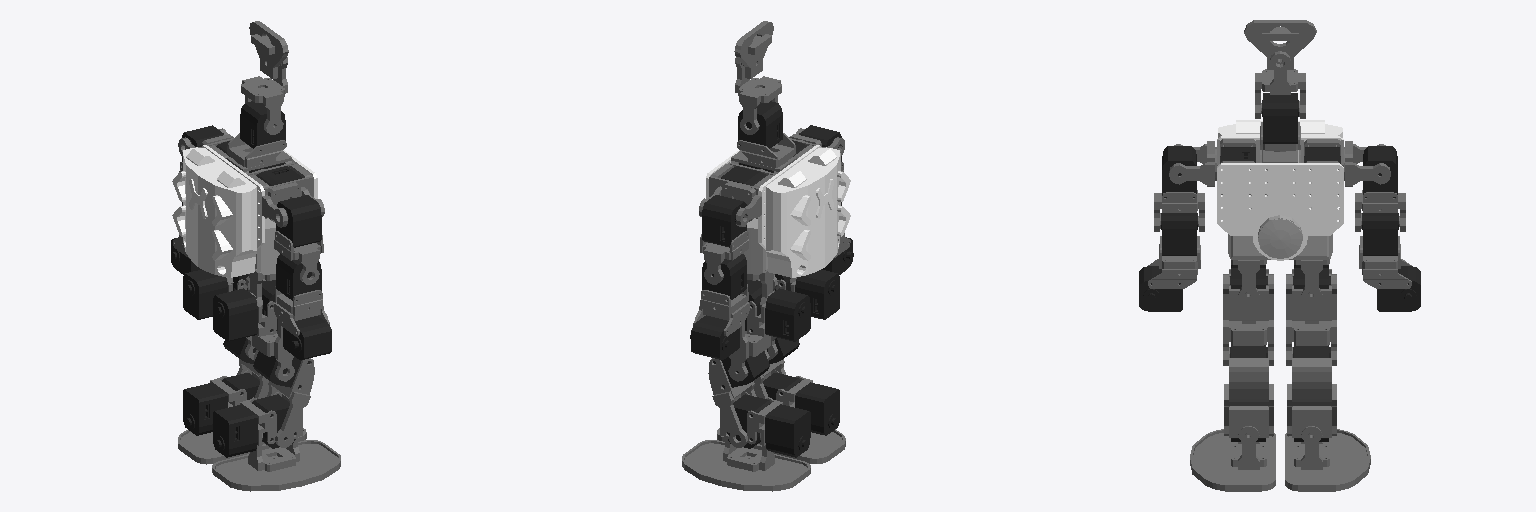
--- Render facts (derived) ---
The picture shows the robot from 3 angles, left to right: view 1: azimuth 30°, elevation 25°; view 2: azimuth 150°, elevation 25°; view 3: azimuth 270°, elevation 25°; orthographic projection.
Model kxrl2l5a3g with 23 links and 22 joints (16 revolute, 6 fixed), rooted at torso, posed every joint at zero.
Visible links, largest first — view 1: torso, RLEG_LINK4, RARM_LINK2, RLEG_LINK3, HEAD_LINK1, RARM_LINK1, RLEG_LINK0, LLEG_LINK3, HEAD_LINK0, RLEG_LINK2, LLEG_LINK0, LLEG_LINK4 (+4 smaller); view 2: torso, LLEG_LINK4, LARM_LINK2, LLEG_LINK3, HEAD_LINK1, LARM_LINK1, LLEG_LINK0, RLEG_LINK3, HEAD_LINK0, LLEG_LINK2, RLEG_LINK0, RLEG_LINK4 (+4 smaller); view 3: torso, RLEG_LINK4, LLEG_LINK4, RARM_LINK2, LARM_LINK2, HEAD_LINK1, RLEG_LINK2, LLEG_LINK2, LARM_LINK1, RARM_LINK1, HEAD_LINK0, LLEG_LINK1 (+7 smaller).
Boxes of the visible links, x1,y1,x2,y2 form: torso: (172,138,317,308); RLEG_LINK4: (212,433,340,491); RARM_LINK2: (274,253,331,359); RLEG_LINK3: (213,392,302,457); HEAD_LINK1: (241,21,288,134); RARM_LINK1: (274,195,323,284); RLEG_LINK0: (213,280,277,341); LLEG_LINK3: (183,370,259,435); HEAD_LINK0: (227,101,286,167); RLEG_LINK2: (253,351,314,447); LLEG_LINK0: (183,270,248,319); LLEG_LINK4: (178,428,306,464); torso: (706,138,850,307); LLEG_LINK4: (682,433,810,491); LARM_LINK2: (690,254,749,359); LLEG_LINK3: (720,392,810,457); HEAD_LINK1: (734,21,781,134); LARM_LINK1: (700,195,748,284); LLEG_LINK0: (745,280,810,341); RLEG_LINK3: (763,370,839,435); HEAD_LINK0: (737,101,795,167); LLEG_LINK2: (708,351,769,447); RLEG_LINK0: (775,269,839,319); RLEG_LINK4: (717,428,845,463); torso: (1215,120,1344,304); RLEG_LINK4: (1190,426,1275,491); LLEG_LINK4: (1285,426,1370,491); RARM_LINK2: (1139,213,1200,311); LARM_LINK2: (1359,213,1420,311); HEAD_LINK1: (1244,20,1316,118); RLEG_LINK2: (1224,345,1273,435); LLEG_LINK2: (1287,345,1336,435); LARM_LINK1: (1355,146,1405,231); RARM_LINK1: (1154,146,1204,231); HEAD_LINK0: (1260,93,1300,150); LLEG_LINK1: (1286,274,1336,365).
Bounding box of the posed robot: 0.1065 × 0.2095 × 0.367 m (x, y, z).
19 mesh visuals loaded from 19 distinct referenced files (19 Collada DAE).

URDF robot description (kxrl2l5a3g):
<?xml version="1.0"?>
<robot name="kxrl2l5a3g"
       xmlns:xi="http://www.w3.org/2001/XInclude">
  <link name="torso">
    <visual>
      <origin xyz="-8e-06 0 0.191982" rpy="0 -0 0"/>
      <geometry>
        <mesh filename="../meshes/torso_mesh.dae" scale="1 1 1" />
      </geometry>
    </visual>
    <collision>
      <origin xyz="-0.010000 0.00000 0.020000" rpy="0.00000000 -0.00000000 0.00000000"/>
      <geometry>
        <box size="0.07000 0.08 0.08" />
      </geometry>
    </collision>
    <inertial>
      <!-- from rcb4eus -->
      <!-- <mass value="0.583234" /> -->
      <!-- real robot w/o battery: 0.583234 - 0.296 = 0.287234; only compensate the real weight by torso adjustment -->
      <mass value="0.287234" />
      <origin xyz="0 0 0" rpy="0 -0 0"/>
      <inertia ixx="0.001179" ixy="-8.41182e-06" ixz="-1.70062e-06" iyy="0.001167" iyz="1.49116e-06" izz="0.001999"/>
    </inertial>
  </link>
  <link name="HEAD_LINK0">
    <visual>
      <origin xyz="-0.00725 0 0.061" rpy="0 -0 0"/>
      <geometry>
        <mesh filename="../meshes/HEAD_LINK0_mesh.dae" scale="1 1 1" />
      </geometry>
    </visual>
    <inertial>
      <mass value="0.03752" />
      <origin xyz="0.008278 -1.86739e-06 0.020216" rpy="0 -0 0"/>
      <inertia ixx="3.88837e-05" ixy="-3.94e-12" ixz="6.70242e-09" iyy="4.27546e-05" iyz="-6.02408e-09" izz="2.51931e-05"/>
    </inertial>
  </link>
  <link name="HEAD_LINK1">
    <visual>
      <origin xyz="0.0105 0 0.033" rpy="0 -0 0"/>
      <geometry>
        <mesh filename="../meshes/HEAD_LINK1_mesh.dae" scale="1 1 1" />
      </geometry>
    </visual>
    <collision>
      <origin xyz="0.00000 0.0000 -0.0080" rpy="0.00000000 -0.00000000 0.00000000"/>
      <geometry>
        <box size="0.025 0.025 0.03" />
      </geometry>
    </collision>
    <inertial>
      <mass value="0.024597" />
      <!-- <origin xyz="0.004067 2.59182e-19 0.008603" rpy="0 -0 0"/> -->
      <origin xyz="0.004067 4.0547e-19 0.008603" rpy="0 -0 0"/>
      <inertia ixx="9.7242e-05" ixy="-2.28993e-09" ixz="1.36484e-07" iyy="8.87817e-05" iyz="-1.71513e-08" izz="1.3887e-05"/>
    </inertial>
  </link>
  <link name="LARM_LINK0">
    <visual>
      <origin xyz="-0.00725 0.0485 0.0435" rpy="0 -0 0"/>
      <geometry>
        <mesh filename="../meshes/LARM_LINK0_mesh.dae" scale="1 1 1" />
      </geometry>
    </visual>
    <inertial>
      <mass value="0.01195" />
      <origin xyz="2.60209e-18 0 0.010386" rpy="0 -0 0"/>
      <inertia ixx="2.28576e-05" ixy="-9.80842e-10" ixz="6.34046e-10" iyy="1.18146e-05" iyz="1.5468e-08" izz="1.61687e-05"/>
    </inertial>
  </link>
  <link name="LARM_LINK1">
    <visual>
      <origin xyz="0 0.026 0" rpy="0 -0 0"/>
      <geometry>
        <mesh filename="../meshes/LARM_LINK1_mesh.dae" scale="1 1 1" />
      </geometry>
    </visual>
    <collision>
      <origin xyz="0.00000 0.0000 -0.0080" rpy="0.00000000 -0.00000000 0.00000000"/>
      <geometry>
        <box size="0.025 0.025 0.03" />
      </geometry>
    </collision>
    <collision>
      <origin xyz="0.0 0.0000 -0.030" rpy="0.00000000 -0.00000000 0.00000000"/>
      <geometry>
        <box size="0.028 0.028 0.006" />
      </geometry>
    </collision>
    <inertial>
      <mass value="0.041025" />
      <origin xyz="0 0 -0.01644" rpy="0 -0 0"/>
      <inertia ixx="5.49194e-05" ixy="-6.71102e-10" ixz="8.95645e-09" iyy="2.53332e-05" iyz="6.90862e-09" izz="5.98969e-05"/>
    </inertial>
  </link>
  <link name="LARM_LINK2">
    <visual>
      <origin xyz="0 0 -0.047" rpy="0 -0 0"/>
      <geometry>
        <mesh filename="../meshes/LARM_LINK2_mesh.dae" scale="1 1 1" />
      </geometry>
    </visual>
    <collision>
      <origin xyz="0.00000 0.0000 -0.008" rpy="0.00000000 -0.00000000 0.00000000"/>
      <geometry>
        <box size="0.025 0.025 0.03" />
      </geometry>
    </collision>
    <collision>
      <origin xyz="0.00000 0.0130 -0.055" rpy="0.00000000 -0.00000000 0.00000000"/>
      <geometry>
        <box size="0.025 0.03 0.025" />
      </geometry>
    </collision>
    <collision>
      <origin xyz="0.0 0.0000 -0.033" rpy="0.00000000 -0.00000000 0.00000000"/>
      <geometry>
        <box size="0.028 0.028 0.010" />
      </geometry>
    </collision>
    <inertial>
      <mass value="0.071724" />
      <origin xyz="0 0 -0.012787" rpy="0 -0 0"/>
      <inertia ixx="9.38809e-05" ixy="-3.94e-12" ixz="1.53141e-08" iyy="5.47619e-05" iyz="-1.12819e-08" izz="9.84962e-05"/>
    </inertial>
  </link>
  <!-- <link name="LARM_LINK3"> -->
  <!--   <visual> -->
  <!--     <origin xyz="0 0.021 -0.0555" rpy="0 -0 0"/> -->
  <!--     <geometry> -->
  <!--       <mesh filename="../meshes/LARM_LINK3_mesh.dae" scale="1 1 1" /> -->
  <!--     </geometry> -->
  <!--   </visual> -->
  <!--   <collision> -->
  <!--     <!-\- <origin xyz="0.00000 0.0225 -0.022" rpy="${-1.0471975512 - 0.05} -0.00000000 0.00000000"/> -\-> -->
  <!--     <origin xyz="0.00000 0.0225 -0.022" rpy="-1.0971975512 -0.00000000 0.00000000"/> -->
  <!--     <geometry> -->
  <!--       <box size="0.04 0.03 0.006" /> -->
  <!--     </geometry> -->
  <!--   </collision> -->
  <!--   <inertial> -->
  <!--     <mass value="0.013908" /> -->
  <!--     <origin xyz="-3.46945e-18 0.035082 -0.036273" rpy="0 -0 0"/> -->
  <!--     <inertia ixx="5.39534e-05" ixy="-2.54028e-09" ixz="-2.35822e-09" iyy="2.3568e-05" iyz="-1.52851e-07" izz="4.68022e-05"/> -->
  <!--   </inertial> -->
  <!-- </link> -->
  <link name="LLEG_LINK0">
    <visual>
      <origin xyz="0 0.0235 -0.052" rpy="0 -0 0"/>
      <geometry>
        <mesh filename="../meshes/LLEG_LINK0_mesh.dae" scale="1 1 1" />
      </geometry>
    </visual>
    <collision>
      <origin xyz="-0.035 0.0000 -0.0080" rpy="0.00000000 -0.00000000 0.00000000"/>
      <geometry>
        <box size="0.025 0.025 0.03" />
      </geometry>
    </collision>
    <collision>
      <origin xyz="0.00000 0.0000 -0.0080" rpy="0.00000000 -0.00000000 0.00000000"/>
      <geometry>
        <box size="0.025 0.025 0.03" />
      </geometry>
    </collision>
    <inertial>
      <mass value="0.061776" />
      <origin xyz="-0.015804 -3.46945e-18 -0.00811" rpy="0 -0 0"/>
      <inertia ixx="4.81066e-05" ixy="1.50384e-08" ixz="-2.07075e-08" iyy="5.46135e-05" iyz="-1.15288e-07" izz="4.88736e-05"/>
    </inertial>
  </link>
  <link name="LLEG_LINK1">
    <visual>
      <origin xyz="0 0 0" rpy="0 -0 0"/>
      <geometry>
        <mesh filename="../meshes/LLEG_LINK1_mesh.dae" scale="1 1 1" />
      </geometry>
    </visual>
    <collision>
      <origin xyz="0.0 0.0000 -0.038" rpy="0.00000000 -0.00000000 0.00000000"/>
      <geometry>
        <box size="0.028 0.028 0.012" />
      </geometry>
    </collision>
    <inertial>
      <mass value="0.025166" />
      <origin xyz="2.87307e-19 -3.46945e-18 -0.032713" rpy="0 -0 0"/>
      <inertia ixx="6.74466e-05" ixy="-2.27142e-09" ixz="1.80148e-09" iyy="6.14497e-05" iyz="3.35902e-08" izz="1.35243e-05"/>
    </inertial>
  </link>
  <link name="LLEG_LINK2">
    <visual>
      <origin xyz="0 0 -0.058" rpy="0 -0 0"/>
      <geometry>
        <mesh filename="../meshes/LLEG_LINK2_mesh.dae" scale="1 1 1" />
      </geometry>
    </visual>
    <collision>
      <!-- <origin xyz="0.00000 0.00 -0.00" rpy="0.00000000 ${0.52359877559 - 0.07} 0.00000000"/> -->
      <!-- <origin xyz="0.00700 0.00 -0.003" rpy="0.00000000 0.45359877559 0.00000000"/> -->
      <origin xyz="0.01000 0.00 -0.0045" rpy="0.00000000 0.45359877559 0.00000000"/>
      <geometry>
        <box size="0.03 0.025 0.025" />
      </geometry>
    </collision>
    <inertial>
      <!-- from rcb4eus -->
      <mass value="0.055049" />
      <!-- real robot 3304R2: 0.055049 + 0.0073 = 0.062349 -->
      <!-- <mass value="0.062349" /> -->
      <origin xyz="0.010892 0 -0.013685" rpy="0 -0 0"/>
      <inertia ixx="0.00013" ixy="5.70585e-08" ixz="1.76606e-08" iyy="0.000122" iyz="-6.55478e-07" izz="3.84933e-05"/>
    </inertial>
  </link>
  <link name="LLEG_LINK3">
    <visual>
      <origin xyz="0 0 -0.057976" rpy="0 -0 0"/>
      <geometry>
        <mesh filename="../meshes/LLEG_LINK3_mesh.dae" scale="1 1 1" />
      </geometry>
    </visual>
    <collision>
      <origin xyz="-0.035 0.0000 0.0080" rpy="0.00000000 -0.00000000 0.00000000"/>
      <geometry>
        <box size="0.025 0.025 0.03" />
      </geometry>
    </collision>
    <collision>
      <origin xyz="0.00000 0.0000 0.0080" rpy="0.00000000 -0.00000000 0.00000000"/>
      <geometry>
        <box size="0.025 0.025 0.03" />
      </geometry>
    </collision>
    <inertial>
      <!-- from rcb4eus -->
      <mass value="0.061776" />
      <!-- real robot 3304R2 x 2: 0.061776 + 0.0073 x 2 = 0.076376 -->
      <!-- <mass value="0.076376" /> -->
      <origin xyz="-0.015804 -3.46945e-18 -0.00811" rpy="0 -0 0"/>
      <inertia ixx="0.000134" ixy="1.50384e-08" ixz="-2.07075e-08" iyy="0.00014" iyz="-1.15288e-07" izz="4.88736e-05"/>
    </inertial>
  </link>
  <link name="LLEG_LINK4">
    <visual>
      <origin xyz="0 0 0" rpy="0 -0 0"/>
      <geometry>
        <mesh filename="../meshes/LLEG_LINK4_mesh.dae" scale="1 1 1" />
      </geometry>
    </visual>
    <collision>
      <origin xyz="0.0 0.0000 -0.025" rpy="0.00000000 -0.00000000 0.00000000"/>
      <geometry>
        <box size="0.028 0.028 0.006" />
      </geometry>
    </collision>
    <!-- method 1: approximation by 1 box -->
    <!-- <collision> -->
    <!--   <!-\- <origin xyz="0.00000 0.0100 -0.029" rpy="0.00000000 -0.00000000 0.00000000"/> -\-> -->
    <!--   <origin xyz="0.00000 0.0100 -0.029" rpy="0.00000000 -0.00000000 0.00000000"/> -->
    <!--   <geometry> -->
    <!--     <box size="0.1 0.06 0.004" /> -->
    <!--     <!-\- <box size="0.1 0.04 0.004" /> -\-> -->
    <!--   </geometry> -->
    <!-- </collision> -->
    <!-- method 2: approximation by 2 boxes -->
    <collision>
      <!-- <origin xyz="0.00000 0.000 -0.029" rpy="0.00000000 -0.00000000 0.00000000"/> -->
      <!-- add small offset to avoid 2 feet get collisin -->
      <origin xyz="0.00000 0.0040 -0.029" rpy="0.00000000 -0.00000000 0.00000000"/>
      <geometry>
        <box size="0.1 0.04 0.004" />
      </geometry>
    </collision>
    <collision>
      <!-- <origin xyz="0.00000 0.0300 -0.029" rpy="0.00000000 -0.00000000 0.00000000"/> -->
      <!-- add small offset to avoid 2 feet get collisin -->
      <origin xyz="0.00000 0.03400 -0.029" rpy="0.00000000 -0.00000000 0.00000000"/>
      <geometry>
        <box size="0.08 0.02 0.004" />
      </geometry>
    </collision>
    <!-- method 3: approximation by overlay of 2 spheres and 1 box -->
    <!-- <collision> -->
    <!--   <origin xyz="0.02000 0.0100 -0.029" rpy="0.00000000 -0.00000000 0.00000000"/> -->
    <!--   <geometry> -->
    <!--     <cylinder length="0.004" radius="0.03" /> -->
    <!--   </geometry> -->
    <!-- </collision> -->
    <!-- <collision> -->
    <!--   <origin xyz="-0.02000 0.0100 -0.029" rpy="0.00000000 -0.00000000 0.00000000"/> -->
    <!--   <geometry> -->
    <!--     <cylinder length="0.004" radius="0.03" /> -->
    <!--   </geometry> -->
    <!-- </collision> -->
    <!-- <collision> -->
    <!--   <origin xyz="0.00000 0.0100 -0.029" rpy="0.00000000 -0.00000000 0.00000000"/> -->
    <!--   <geometry> -->
    <!--     <box size="0.06 0.06 0.004" /> -->
    <!--   </geometry> -->
    <!-- </collision> -->
    <inertial>
      <mass value="0.034088" />
      <origin xyz="-7.61549e-06 0.005841 -0.024808" rpy="0 -0 0"/>
      <inertia ixx="0.000284" ixy="6.51398e-09" ixz="1.25882e-08" iyy="0.000186" iyz="-2.42528e-07" izz="0.000103"/>
    </inertial>
  </link>
  <link name="RARM_LINK0">
    <visual>
      <origin xyz="-0.00725 -0.049 0.0435" rpy="0 -0 0"/>
      <geometry>
        <mesh filename="../meshes/RARM_LINK0_mesh.dae" scale="1 1 1" />
      </geometry>
    </visual>
    <inertial>
      <mass value="0.01195" />
      <origin xyz="2.60209e-18 0 0.010386" rpy="0 -0 0"/>
      <inertia ixx="2.30389e-05" ixy="-9.80842e-10" ixz="6.34046e-10" iyy="1.18146e-05" iyz="1.5468e-08" izz="1.63501e-05"/>
    </inertial>
  </link>
  <link name="RARM_LINK1">
    <visual>
      <origin xyz="0 -0.026 0" rpy="0 -0 0"/>
      <geometry>
        <mesh filename="../meshes/RARM_LINK1_mesh.dae" scale="1 1 1" />
      </geometry>
    </visual>
    <collision>
      <origin xyz="0.00000 0.0000 -0.00800" rpy="0.00000000 -0.00000000 0.00000000"/>
      <geometry>
        <box size="0.025 0.025 0.03" />
      </geometry>
    </collision>
    <collision>
      <origin xyz="0.0 0.0000 -0.030" rpy="0.00000000 -0.00000000 0.00000000"/>
      <geometry>
        <box size="0.028 0.028 0.006" />
      </geometry>
    </collision>
    <inertial>
      <mass value="0.041025" />
      <origin xyz="0 0 -0.01644" rpy="0 -0 0"/>
      <inertia ixx="5.53679e-05" ixy="-6.71102e-10" ixz="8.95645e-09" iyy="2.53332e-05" iyz="6.90862e-09" izz="6.03453e-05"/>
    </inertial>
  </link>
  <link name="RARM_LINK2">
    <visual>
      <origin xyz="0 0 -0.047" rpy="0 -0 0"/>
      <geometry>
        <mesh filename="../meshes/RARM_LINK2_mesh.dae" scale="1 1 1" />
      </geometry>
    </visual>
    <collision>
      <origin xyz="0.00000 0.0000 -0.008" rpy="0.00000000 -0.00000000 0.00000000"/>
      <geometry>
        <box size="0.025 0.025 0.03" />
      </geometry>
    </collision>
    <collision>
      <origin xyz="0.00000 -0.0130 -0.055" rpy="0.00000000 -0.00000000 0.00000000"/>
      <geometry>
        <box size="0.025 0.03 0.025" />
      </geometry>
    </collision>
    <collision>
      <origin xyz="0.0 0.0000 -0.033" rpy="0.00000000 -0.00000000 0.00000000"/>
      <geometry>
        <box size="0.028 0.028 0.010" />
      </geometry>
    </collision>
    <inertial>
      <mass value="0.071724" />
      <origin xyz="0 0 -0.012787" rpy="0 -0 0"/>
      <inertia ixx="9.45007e-05" ixy="-3.94e-12" ixz="1.53141e-08" iyy="5.47619e-05" iyz="-1.12819e-08" izz="9.91161e-05"/>
    </inertial>
  </link>
  <!-- <link name="RARM_LINK3"> -->
  <!--   <visual> -->
  <!--     <origin xyz="0 -0.021 -0.0555" rpy="0 -0 0"/> -->
  <!--     <geometry> -->
  <!--       <mesh filename="../meshes/RARM_LINK3_mesh.dae" scale="1 1 1" /> -->
  <!--     </geometry> -->
  <!--   </visual> -->
  <!--   <collision> -->
  <!--     <!-\- <origin xyz="0.00000 -0.0225 -0.022" rpy="${1.0471975512 + 0.05} -0.00000000 0.00000000"/> -\-> -->
  <!--     <origin xyz="0.00000 -0.0225 -0.022" rpy="1.0971975512 -0.00000000 0.00000000"/> -->
  <!--     <geometry> -->
  <!--       <box size="0.04 0.03 0.006" /> -->
  <!--     </geometry> -->
  <!--   </collision> -->
  <!--   <inertial> -->
  <!--     <mass value="0.013908" /> -->
  <!--     <origin xyz="1.73472e-18 -0.035082 -0.036273" rpy="0 -0 0"/> -->
  <!--     <inertia ixx="5.42657e-05" ixy="-2.54028e-09" ixz="-2.35822e-09" iyy="2.3568e-05" iyz="-1.52851e-07" izz="4.71146e-05"/> -->
  <!--   </inertial> -->
  <!-- </link> -->
  <link name="RLEG_LINK0">
    <visual>
      <origin xyz="0 -0.0235 -0.052" rpy="0 -0 0"/>
      <geometry>
        <mesh filename="../meshes/RLEG_LINK0_mesh.dae" scale="1 1 1" />
      </geometry>
    </visual>
    <collision>
      <origin xyz="-0.035 0.0000 -0.0080" rpy="0.00000000 -0.00000000 0.00000000"/>
      <geometry>
        <box size="0.025 0.025 0.03" />
      </geometry>
    </collision>
    <collision>
      <origin xyz="0.00000 0.0000 -0.0080" rpy="0.00000000 -0.00000000 0.00000000"/>
      <geometry>
        <box size="0.025 0.025 0.03" />
      </geometry>
    </collision>
    <inertial>
      <mass value="0.061776" />
      <origin xyz="-0.015804 -3.46945e-18 -0.00811" rpy="0 -0 0"/>
      <inertia ixx="4.81066e-05" ixy="1.50384e-08" ixz="-2.07075e-08" iyy="5.46135e-05" iyz="-1.15288e-07" izz="4.88736e-05"/>
    </inertial>
  </link>
  <link name="RLEG_LINK1">
    <visual>
      <origin xyz="0 0 0" rpy="0 -0 0"/>
      <geometry>
        <mesh filename="../meshes/RLEG_LINK1_mesh.dae" scale="1 1 1" />
      </geometry>
    </visual>
    <collision>
      <origin xyz="0.0 0.0000 -0.038" rpy="0.00000000 -0.00000000 0.00000000"/>
      <geometry>
        <box size="0.028 0.028 0.012" />
      </geometry>
    </collision>
    <inertial>
      <mass value="0.025166" />
      <origin xyz="2.87307e-19 -3.46945e-18 -0.032713" rpy="0 -0 0"/>
      <inertia ixx="6.74466e-05" ixy="-2.27142e-09" ixz="1.80148e-09" iyy="6.14497e-05" iyz="3.35902e-08" izz="1.35243e-05"/>
    </inertial>
  </link>
  <link name="RLEG_LINK2">
    <visual>
      <origin xyz="0 0 -0.058" rpy="0 -0 0"/>
      <geometry>
        <mesh filename="../meshes/RLEG_LINK2_mesh.dae" scale="1 1 1" />
      </geometry>
    </visual>
    <collision>
      <!-- <origin xyz="0.00000 0.00 -0.00" rpy="0.00000000 ${0.52359877559 - 0.07} 0.00000000"/> -->
      <!-- <origin xyz="0.00700 0.00 -0.003" rpy="0.00000000 0.45359877559 0.00000000"/> -->
      <origin xyz="0.01000 0.00 -0.0045" rpy="0.00000000 0.45359877559 0.00000000"/>
      <geometry>
        <box size="0.03 0.025 0.025" />
      </geometry>
    </collision>
    <inertial>
      <!-- from rcb4eus -->
      <mass value="0.055049" />
      <!-- real robot 3304R2: 0.055049 + 0.0073 = 0.062349 -->
      <!-- <mass value="0.062349" /> -->
      <origin xyz="0.010892 0 -0.013685" rpy="0 -0 0"/>
      <inertia ixx="0.00013" ixy="5.70585e-08" ixz="1.76606e-08" iyy="0.000122" iyz="-6.55478e-07" izz="3.84933e-05"/>
    </inertial>
  </link>
  <link name="RLEG_LINK3">
    <visual>
      <origin xyz="0 0 -0.057976" rpy="0 -0 0"/>
      <geometry>
        <mesh filename="../meshes/RLEG_LINK3_mesh.dae" scale="1 1 1" />
      </geometry>
    </visual>
    <collision>
      <origin xyz="-0.035 0.0000 0.0080" rpy="0.00000000 -0.00000000 0.00000000"/>
      <geometry>
        <box size="0.025 0.025 0.03" />
      </geometry>
    </collision>
    <collision>
      <origin xyz="0.00000 0.0000 0.0080" rpy="0.00000000 -0.00000000 0.00000000"/>
      <geometry>
        <box size="0.025 0.025 0.03" />
      </geometry>
    </collision>
    <inertial>
      <!-- from rcb4eus -->
      <mass value="0.061776" />
      <!-- real robot 3304R2 x 2: 0.061776 + 0.0073 x 2 = 0.076376 -->
      <!-- <mass value="0.076376" /> -->
      <origin xyz="-0.015804 -3.46945e-18 -0.00811" rpy="0 -0 0"/>
      <inertia ixx="0.000134" ixy="1.50384e-08" ixz="-2.07075e-08" iyy="0.00014" iyz="-1.15288e-07" izz="4.88736e-05"/>
    </inertial>
  </link>
  <link name="RLEG_LINK4">
    <visual>
      <origin xyz="0 0 0" rpy="0 -0 0"/>
      <geometry>
        <mesh filename="../meshes/RLEG_LINK4_mesh.dae" scale="1 1 1" />
      </geometry>
    </visual>
    <collision>
      <origin xyz="0.0 0.0000 -0.025" rpy="0.00000000 -0.00000000 0.00000000"/>
      <geometry>
        <box size="0.028 0.028 0.006" />
      </geometry>
    </collision>
    <!-- method 1: approximation by 1 box -->
    <!-- <collision> -->
    <!--   <!-\- <origin xyz="0.00000 -0.0100 -0.029" rpy="0.00000000 -0.00000000 0.00000000"/> -\-> -->
    <!--   <origin xyz="0.00000 -0.0100 -0.029" rpy="0.00000000 -0.00000000 0.00000000"/> -->
    <!--   <geometry> -->
    <!--     <box size="0.1 0.06 0.004" /> -->
    <!--     <!-\- <box size="0.1 0.04 0.004" /> -\-> -->
    <!--   </geometry> -->
    <!-- </collision> -->
    <!-- method 2: approximation by 2 boxes -->
    <collision>
      <!-- <origin xyz="0.00000 -0.000 -0.029" rpy="0.00000000 -0.00000000 0.00000000"/> -->
      <!-- add small offset to avoid 2 feet get collisin -->
      <origin xyz="0.00000 -0.0040 -0.029" rpy="0.00000000 -0.00000000 0.00000000"/>
      <geometry>
        <box size="0.1 0.04 0.004" />
      </geometry>
    </collision>
    <collision>
      <!-- <origin xyz="0.00000 -0.0300 -0.029" rpy="0.00000000 -0.00000000 0.00000000"/> -->
      <!-- add small offset to avoid 2 feet get collisin -->
      <origin xyz="0.00000 -0.03400 -0.029" rpy="0.00000000 -0.00000000 0.00000000"/>
      <geometry>
        <box size="0.08 0.02 0.004" />
      </geometry>
    </collision>
    <!-- method 3: approximation by overlay of 2 spheres and 1 box -->
    <!-- <collision> -->
    <!--   <origin xyz="0.02000 -0.0100 -0.029" rpy="0.00000000 -0.00000000 0.00000000"/> -->
    <!--   <geometry> -->
    <!--     <cylinder length="0.004" radius="0.03" /> -->
    <!--   </geometry> -->
    <!-- </collision> -->
    <!-- <collision> -->
    <!--   <origin xyz="-0.02000 -0.0100 -0.029" rpy="0.00000000 -0.00000000 0.00000000"/> -->
    <!--   <geometry> -->
    <!--     <cylinder length="0.004" radius="0.03" /> -->
    <!--   </geometry> -->
    <!-- </collision> -->
    <!-- <collision> -->
    <!--   <origin xyz="0.00000 -0.0100 -0.029" rpy="0.00000000 -0.00000000 0.00000000"/> -->
    <!--   <geometry> -->
    <!--     <box size="0.06 0.06 0.004" /> -->
    <!--   </geometry> -->
    <!-- </collision> -->
    <inertial>
      <mass value="0.034088" />
      <origin xyz="7.61549e-06 -0.005841 -0.024808" rpy="0 -0 0"/>
      <inertia ixx="0.000284" ixy="6.51398e-09" ixz="1.25882e-08" iyy="0.000186" iyz="-2.42528e-07" izz="0.000103"/>
    </inertial>
  </link>
  <joint name="HEAD_JOINT0" type="fixed">
    <parent link="torso"/>
    <child  link="HEAD_LINK0"/>
    <origin xyz="-0.00725 0 0.061" rpy="0 -0 0 "/>
    <axis   xyz="0 0 1"/>
    <limit lower="-3.14159" upper="3.14159" effort="100" velocity="0.5" />
    <dynamics damping="0.2" friction="0" />
  </joint>
  <joint name="HEAD_JOINT1" type="fixed">
    <parent link="HEAD_LINK0"/>
    <child  link="HEAD_LINK1"/>
    <origin xyz="0.0105 0 0.033" rpy="0 -0 0 "/>
    <axis   xyz="0 1 0"/>
    <limit lower="-3.14159" upper="3.14159" effort="100" velocity="0.5" />
    <dynamics damping="0.2" friction="0" />
  </joint>
  <joint name="LARM_JOINT0" type="revolute">
    <parent link="torso"/>
    <child  link="LARM_LINK0"/>
    <origin xyz="-0.00725 0.0485 0.0435" rpy="0 -0 0 "/>
    <axis   xyz="0 1 0"/>
    <limit lower="-3.14159" upper="3.14159" effort="1.17655" velocity="7.47998" />
    <dynamics damping="0.2" friction="0" />
  </joint>
  <joint name="LARM_JOINT1" type="revolute">
    <parent link="LARM_LINK0"/>
    <child  link="LARM_LINK1"/>
    <origin xyz="0 0.026 0" rpy="0 -0 0 "/>
    <axis   xyz="1 0 0"/>
    <limit lower="-0.523599" upper="3.22886" effort="1.17655" velocity="7.47998" />
    <dynamics damping="0.2" friction="0" />
  </joint>
  <joint name="LARM_JOINT2" type="revolute">
    <parent link="LARM_LINK1"/>
    <child  link="LARM_LINK2"/>
    <origin xyz="0 0 -0.047" rpy="0 -0 0 "/>
    <axis   xyz="0 1 0"/>
    <limit lower="-2.96706" upper="2.96706" effort="1.17655" velocity="7.47998" />
    <dynamics damping="0.2" friction="0" />
  </joint>
  <!-- <joint name="LARM_JOINT3" type="revolute"> -->
  <!--   <parent link="LARM_LINK2"/> -->
  <!--   <child  link="LARM_LINK3"/> -->
  <!--   <origin xyz="0 0.021 -0.0555" rpy="0 -0 0 "/> -->
  <!--   <axis   xyz="1 0 0"/> -->
  <!--   <limit lower="-1.74533" upper="1.74533" effort="1.17655" velocity="7.47998" /> -->
  <!--   <dynamics damping="0.2" friction="0" /> -->
  <!-- </joint> -->
  <joint name="RARM_JOINT0" type="revolute">
    <parent link="torso"/>
    <child  link="RARM_LINK0"/>
    <origin xyz="-0.00725 -0.049 0.0435" rpy="0 -0 0 "/>
    <axis   xyz="0 1 0"/>
    <limit lower="-3.14159" upper="3.14159" effort="1.17655" velocity="7.47998" />
    <dynamics damping="0.2" friction="0" />
  </joint>
  <joint name="RARM_JOINT1" type="revolute">
    <parent link="RARM_LINK0"/>
    <child  link="RARM_LINK1"/>
    <origin xyz="0 -0.026 0" rpy="0 -0 0 "/>
    <axis   xyz="1 0 0"/>
    <limit lower="-3.22886" upper="0.523599" effort="1.17655" velocity="7.47998" />
    <dynamics damping="0.2" friction="0" />
  </joint>
  <joint name="RARM_JOINT2" type="revolute">
    <parent link="RARM_LINK1"/>
    <child  link="RARM_LINK2"/>
    <origin xyz="0 0 -0.047" rpy="0 -0 0 "/>
    <axis   xyz="0 1 0"/>
    <limit lower="-2.96706" upper="2.96706" effort="1.17655" velocity="7.47998" />
    <dynamics damping="0.2" friction="0" />
  </joint>
  <!-- <joint name="RARM_JOINT3" type="revolute"> -->
  <!--   <parent link="RARM_LINK2"/> -->
  <!--   <child  link="RARM_LINK3"/> -->
  <!--   <origin xyz="0 -0.021 -0.0555" rpy="0 -0 0 "/> -->
  <!--   <axis   xyz="-1 1.22465e-16 6.16298e-33"/> -->
  <!--   <limit lower="-1.74533" upper="1.74533" effort="1.17655" velocity="7.47998" /> -->
  <!--   <dynamics damping="0.2" friction="0" /> -->
  <!-- </joint> -->
  <joint name="LLEG_JOINT0" type="revolute">
    <parent link="torso"/>
    <child  link="LLEG_LINK0"/>
    <origin xyz="0 0.0235 -0.052" rpy="0 -0 0 "/>
    <axis   xyz="1 0 0"/>
    <limit lower="-2.35619" upper="2.32129" effort="1.17655" velocity="7.47998" />
    <dynamics damping="0.2" friction="0" />
  </joint>
  <joint name="LLEG_JOINT1" type="revolute">
    <parent link="LLEG_LINK0"/>
    <child  link="LLEG_LINK1"/>
    <origin xyz="0 0 0" rpy="0 -0 0 "/>
    <axis   xyz="0 1 0"/>
    <limit lower="-2.35619" upper="1.5708" effort="1.17655" velocity="7.47998" />
    <dynamics damping="0.2" friction="0" />
  </joint>
  <joint name="LLEG_JOINT2" type="revolute">
    <parent link="LLEG_LINK1"/>
    <child  link="LLEG_LINK2"/>
    <origin xyz="0 0 -0.058" rpy="0 -0 0 "/>
    <axis   xyz="0 1 0"/>
    <limit lower="-1.74533" upper="2.79253" effort="1.17655" velocity="7.47998" />
    <dynamics damping="0.2" friction="0" />
  </joint>
  <joint name="LLEG_JOINT3" type="revolute">
    <parent link="LLEG_LINK2"/>
    <child  link="LLEG_LINK3"/>
    <origin xyz="0 0 -0.057976" rpy="0 -0 0 "/>
    <axis   xyz="0 1 0"/>
    <limit lower="-1.8326" upper="1.8326" effort="1.17655" velocity="7.47998" />
    <dynamics damping="0.2" friction="0" />
  </joint>
  <joint name="LLEG_JOINT4" type="revolute">
    <parent link="LLEG_LINK3"/>
    <child  link="LLEG_LINK4"/>
    <origin xyz="0 0 0" rpy="0 -0 0 "/>
    <axis   xyz="1 0 0"/>
    <limit lower="-2.96706" upper="2.96706" effort="1.17655" velocity="7.47998" />
    <dynamics damping="0.2" friction="0" />
  </joint>
  <joint name="RLEG_JOINT0" type="revolute">
    <parent link="torso"/>
    <child  link="RLEG_LINK0"/>
    <origin xyz="0 -0.0235 -0.052" rpy="0 -0 0 "/>
    <axis   xyz="1 0 0"/>
    <limit lower="-2.35619" upper="2.32129" effort="1.17655" velocity="7.47998" />
    <dynamics damping="0.2" friction="0" />
  </joint>
  <joint name="RLEG_JOINT1" type="revolute">
    <parent link="RLEG_LINK0"/>
    <child  link="RLEG_LINK1"/>
    <origin xyz="0 0 0" rpy="0 -0 0 "/>
    <axis   xyz="0 1 0"/>
    <limit lower="-2.35619" upper="1.5708" effort="1.17655" velocity="7.47998" />
    <dynamics damping="0.2" friction="0" />
  </joint>
  <joint name="RLEG_JOINT2" type="revolute">
    <parent link="RLEG_LINK1"/>
    <child  link="RLEG_LINK2"/>
    <origin xyz="0 0 -0.058" rpy="0 -0 0 "/>
    <axis   xyz="0 1 0"/>
    <limit lower="-1.74533" upper="2.79253" effort="1.17655" velocity="7.47998" />
    <dynamics damping="0.2" friction="0" />
  </joint>
  <joint name="RLEG_JOINT3" type="revolute">
    <parent link="RLEG_LINK2"/>
    <child  link="RLEG_LINK3"/>
    <origin xyz="0 0 -0.057976" rpy="0 -0 0 "/>
    <axis   xyz="0 1 0"/>
    <limit lower="-1.8326" upper="1.8326" effort="1.17655" velocity="7.47998" />
    <dynamics damping="0.2" friction="0" />
  </joint>
  <joint name="RLEG_JOINT4" type="revolute">
    <parent link="RLEG_LINK3"/>
    <child  link="RLEG_LINK4"/>
    <origin xyz="0 0 0" rpy="0 -0 0 "/>
    <axis   xyz="1 0 0"/>
    <limit lower="-2.96706" upper="2.96706" effort="1.17655" velocity="7.47998" />
    <dynamics damping="0.2" friction="0" />
  </joint>

  <!-- Virtual Hand joint -->
  <joint name="l_hand_virtual_joint" type="fixed">
    <parent link="LARM_LINK2"/>
    <child link="l_hand_virtual"/>
    <origin rpy="0.0 0.0 0.0" xyz="0.0 0.0 0.0"/>
  </joint>
  <!-- Hand Virtual link for data acquire -->
  <link name="l_hand_virtual">
  </link>

  <!-- Virtual Hand joint -->
  <joint name="r_hand_virtual_joint" type="fixed">
    <parent link="RARM_LINK2"/>
    <child link="r_hand_virtual"/>
    <origin rpy="0.0 0.0 0.0" xyz="0.0 0.0 0.0"/>
  </joint>
  <!-- Hand Virtual link for data acquire -->
  <link name="r_hand_virtual">
  </link>

  <!-- Virtual Foot joint -->
  <joint name="l_foot_virtual_joint" type="fixed">
    <parent link="LLEG_LINK4"/>
    <child link="l_foot_virtual"/>
    <origin rpy="0.0 0.0 0.0" xyz="0.0 0.0 0.0"/>
  </joint>
  <!-- Foot Virtual link for data acquire -->
  <link name="l_foot_virtual">
  </link>

  <!-- Virtual Foot joint -->
  <joint name="r_foot_virtual_joint" type="fixed">
    <parent link="RLEG_LINK4"/>
    <child link="r_foot_virtual"/>
    <origin rpy="0.0 0.0 0.0" xyz="0.0 0.0 0.0"/>
  </joint>
  <!-- Foot Virtual link for data acquire -->
  <link name="r_foot_virtual">
  </link>
</robot>
